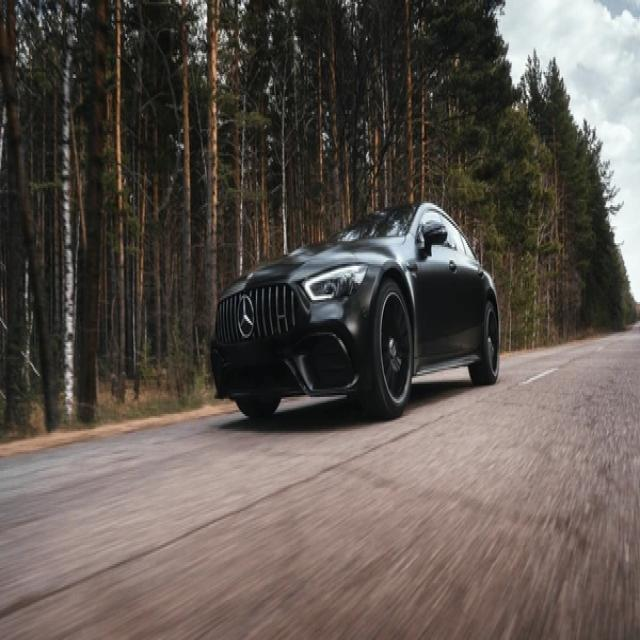mercedes: (236, 295, 255, 339)
